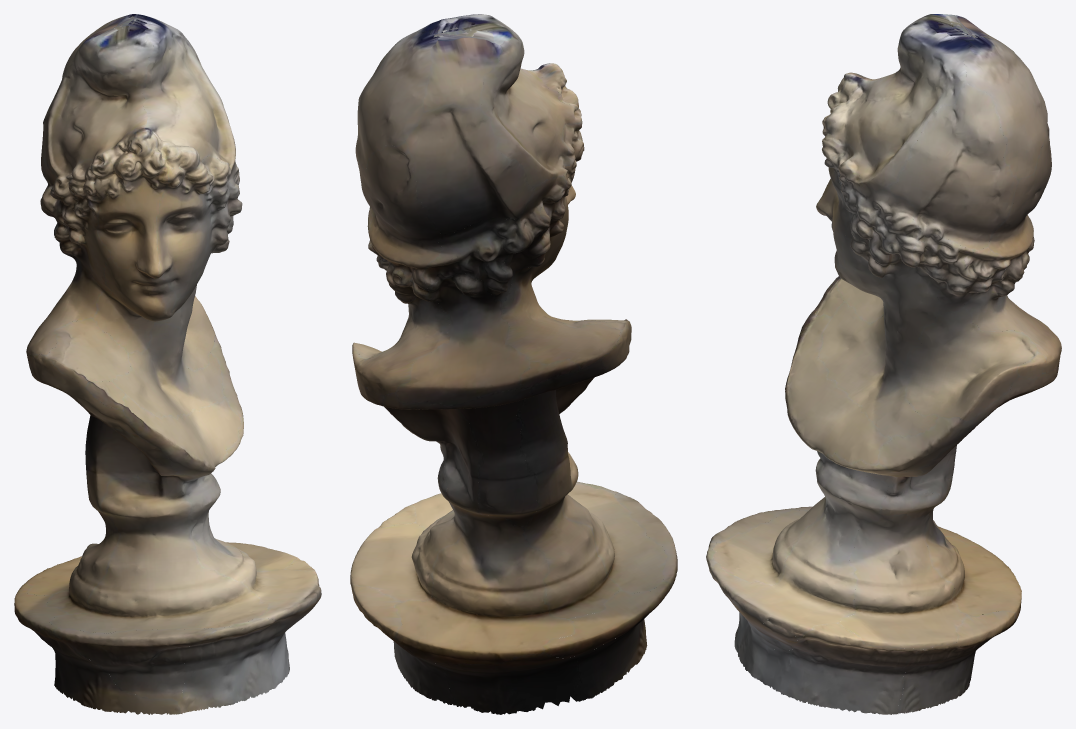
File: preview.glb
3 renders of one model, left to right at view 1: azimuth 30°, elevation 25°; view 2: azimuth 150°, elevation 25°; view 3: azimuth 270°, elevation 25°, orthographic. The views are drawn at different scales.
Parts seen in each view (by area): view 1: Object_4, Object_2, Object_3; view 2: Object_4, Object_3, Object_2; view 3: Object_4, Object_2, Object_3.
Boxes of the visible parts, x1=… form: Object_4: x1=24, y1=23, x2=321, y2=714; Object_2: x1=26, y1=16, x2=321, y2=648; Object_3: x1=14, y1=14, x2=297, y2=702; Object_4: x1=352, y1=14, x2=673, y2=714; Object_3: x1=350, y1=31, x2=677, y2=657; Object_2: x1=350, y1=14, x2=620, y2=705; Object_4: x1=712, y1=14, x2=1037, y2=714; Object_2: x1=721, y1=16, x2=1061, y2=713; Object_3: x1=706, y1=15, x2=1058, y2=649.
Size of the model in its own units: 9.55 by 21.66 by 10.74.
4 materials, 3 textured.
